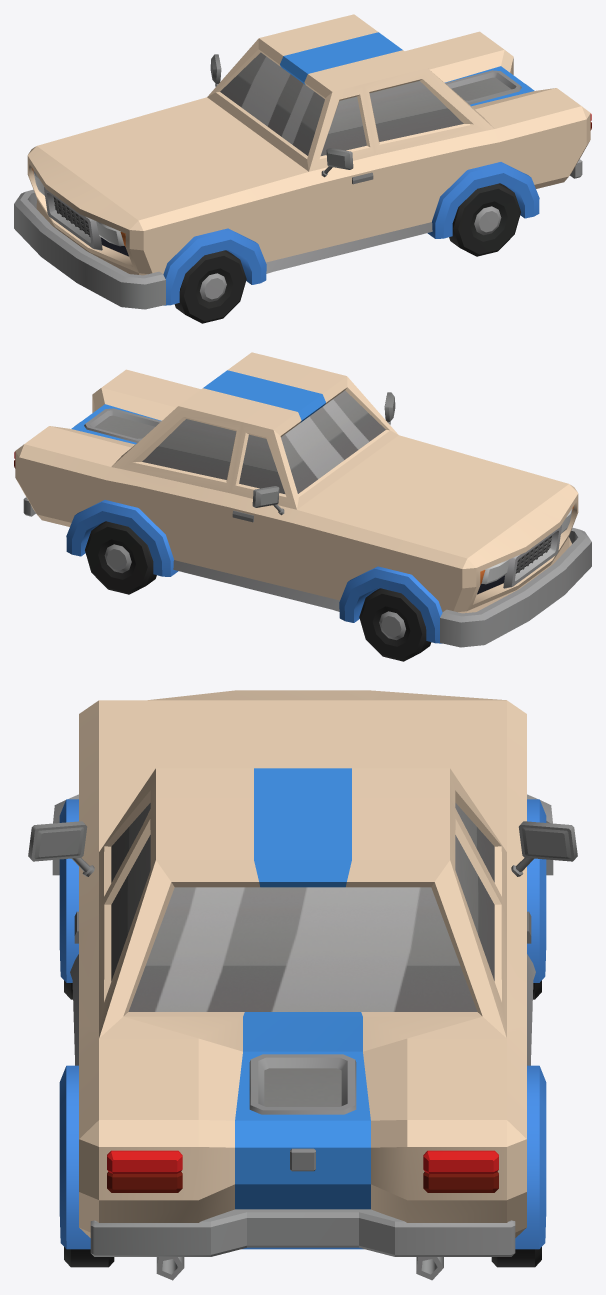
The model's file is Car_18_C.gltf.
3 renders of one model, top to bottom at view 1: azimuth 30°, elevation 25°; view 2: azimuth 150°, elevation 25°; view 3: azimuth 270°, elevation 25°, orthographic. The views are drawn at different scales.
Visible parts, largest first — view 1: Car_18_C, RL, FL; view 2: Car_18_C, RR, FR; view 3: Car_18_C.
Boxes of the visible parts, x1,y1,x2,y2 form: Car_18_C: [14, 14, 591, 309]; RL: [449, 183, 520, 256]; FL: [174, 250, 246, 323]; Car_18_C: [14, 352, 591, 647]; RR: [85, 521, 156, 594]; FR: [359, 588, 431, 661]; Car_18_C: [28, 690, 577, 1280].
Bounding box in the file's own units: 3.78 × 1.34 × 1.85.
3 materials, 3 textured.
